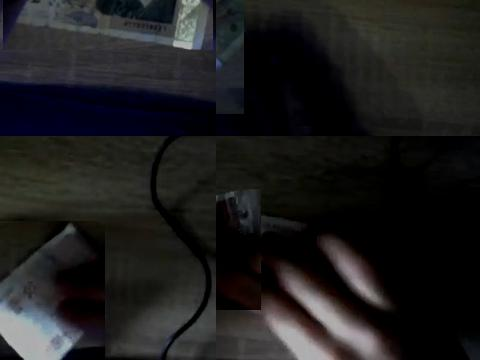10leva: (19, 0, 209, 50)
5leva: (0, 221, 105, 360), (216, 189, 261, 238)
